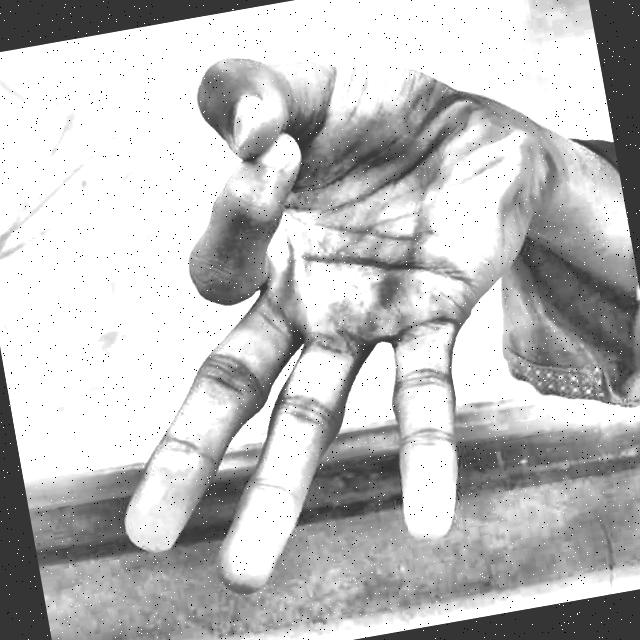Fa: (3, 0, 619, 640)
